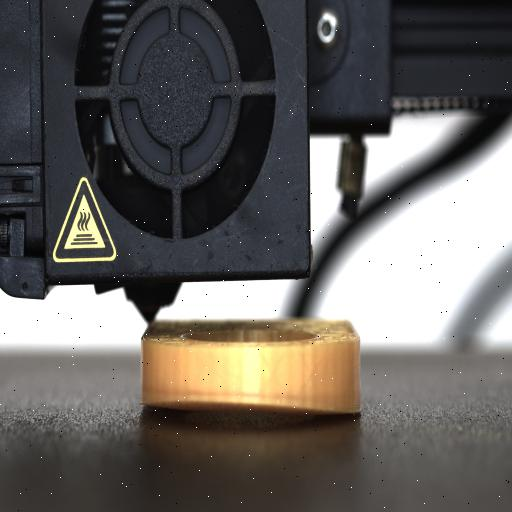warp: (144, 390, 353, 426)
